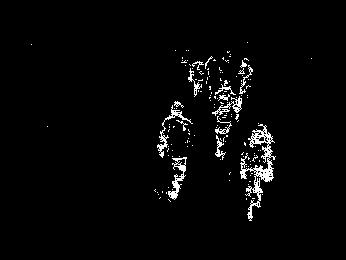person: (157, 101, 195, 205), (241, 120, 277, 222), (211, 80, 241, 160)
